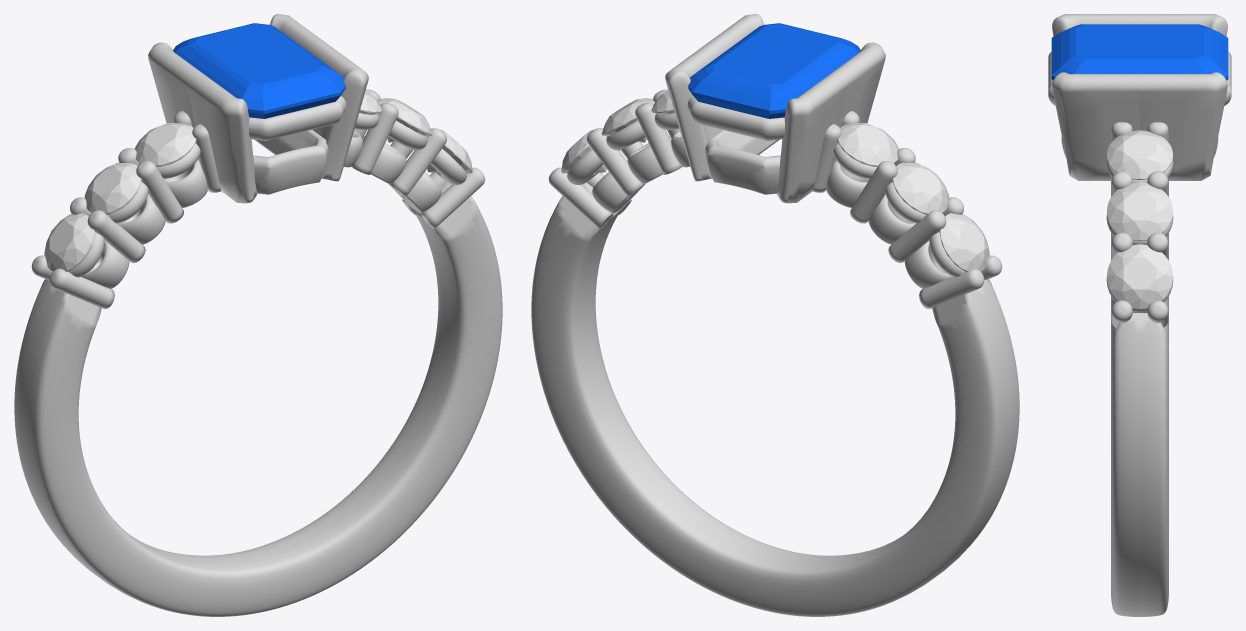
The model's file is bluesapphire-emerald-platinum-halfmoonbezel-straightband-7stone.glb.
3 renders of one model, left to right at view 1: azimuth 30°, elevation 25°; view 2: azimuth 150°, elevation 25°; view 3: azimuth 270°, elevation 25°, orthographic.
Parts seen in each view (by area): view 1: metal, stone.002, side.012, side.013, side.014, side.016; view 2: metal, stone.002, side.012, side.013, side.014, side.016; view 3: metal, stone.002, side.017, side.016, side.015.
Boxes of the visible parts, box(x1,y1,x2,y2) form: metal: box(14, 14, 502, 616); stone.002: box(173, 23, 345, 118); side.012: box(44, 213, 94, 271); side.013: box(84, 162, 141, 214); side.014: box(134, 123, 196, 166); side.016: box(378, 98, 432, 142); metal: box(531, 14, 1019, 616); stone.002: box(688, 23, 860, 118); side.012: box(939, 213, 989, 271); side.013: box(892, 162, 949, 214); side.014: box(837, 123, 899, 166); side.016: box(601, 98, 655, 142); metal: box(1048, 14, 1231, 616); stone.002: box(1051, 24, 1228, 80); side.017: box(1107, 244, 1172, 308); side.016: box(1107, 182, 1172, 240); side.015: box(1107, 130, 1172, 179).
Size of the model in its own units: 20.49 by 22.94 by 6.94.
